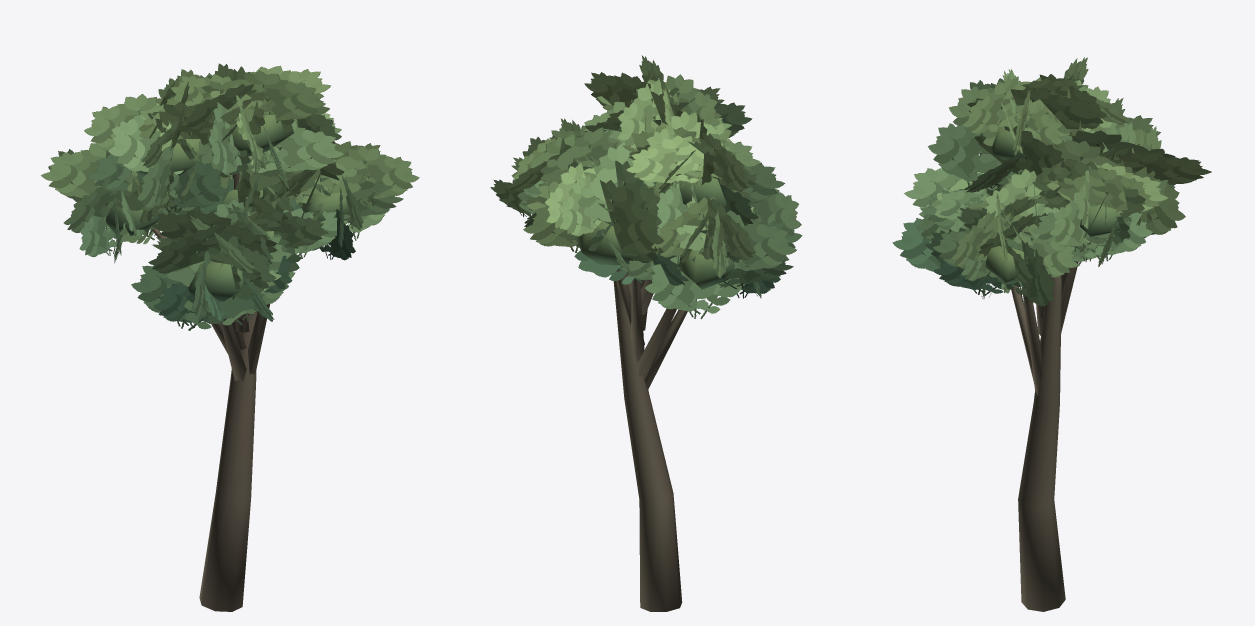
The model's file is canopy-b.glb.
3 views of the same model, side by side, from view 1: azimuth 30°, elevation 25°; view 2: azimuth 150°, elevation 25°; view 3: azimuth 270°, elevation 25° (orthographic). The views are drawn at different scales.
Visible parts, largest first — view 1: broadleaf-sprays.002, forked-trunk.002, broadleaf-crown-planes.002; view 2: broadleaf-sprays.002, forked-trunk.002, broadleaf-crown-planes.002; view 3: broadleaf-sprays.002, forked-trunk.002, broadleaf-crown-planes.002.
Part boxes in pixels (x1,y1,x2,y2): broadleaf-sprays.002: (41, 63, 419, 330); forked-trunk.002: (152, 172, 269, 611); broadleaf-crown-planes.002: (106, 112, 348, 301); broadleaf-sprays.002: (490, 55, 802, 319); forked-trunk.002: (613, 269, 687, 611); broadleaf-crown-planes.002: (538, 122, 734, 289); broadleaf-sprays.002: (892, 57, 1211, 306); forked-trunk.002: (1011, 261, 1078, 611); broadleaf-crown-planes.002: (949, 118, 1120, 284).
Bounding box in the file's own units: 5.03 × 7.38 × 4.58.
Materials: 2 (1 with a texture image).
